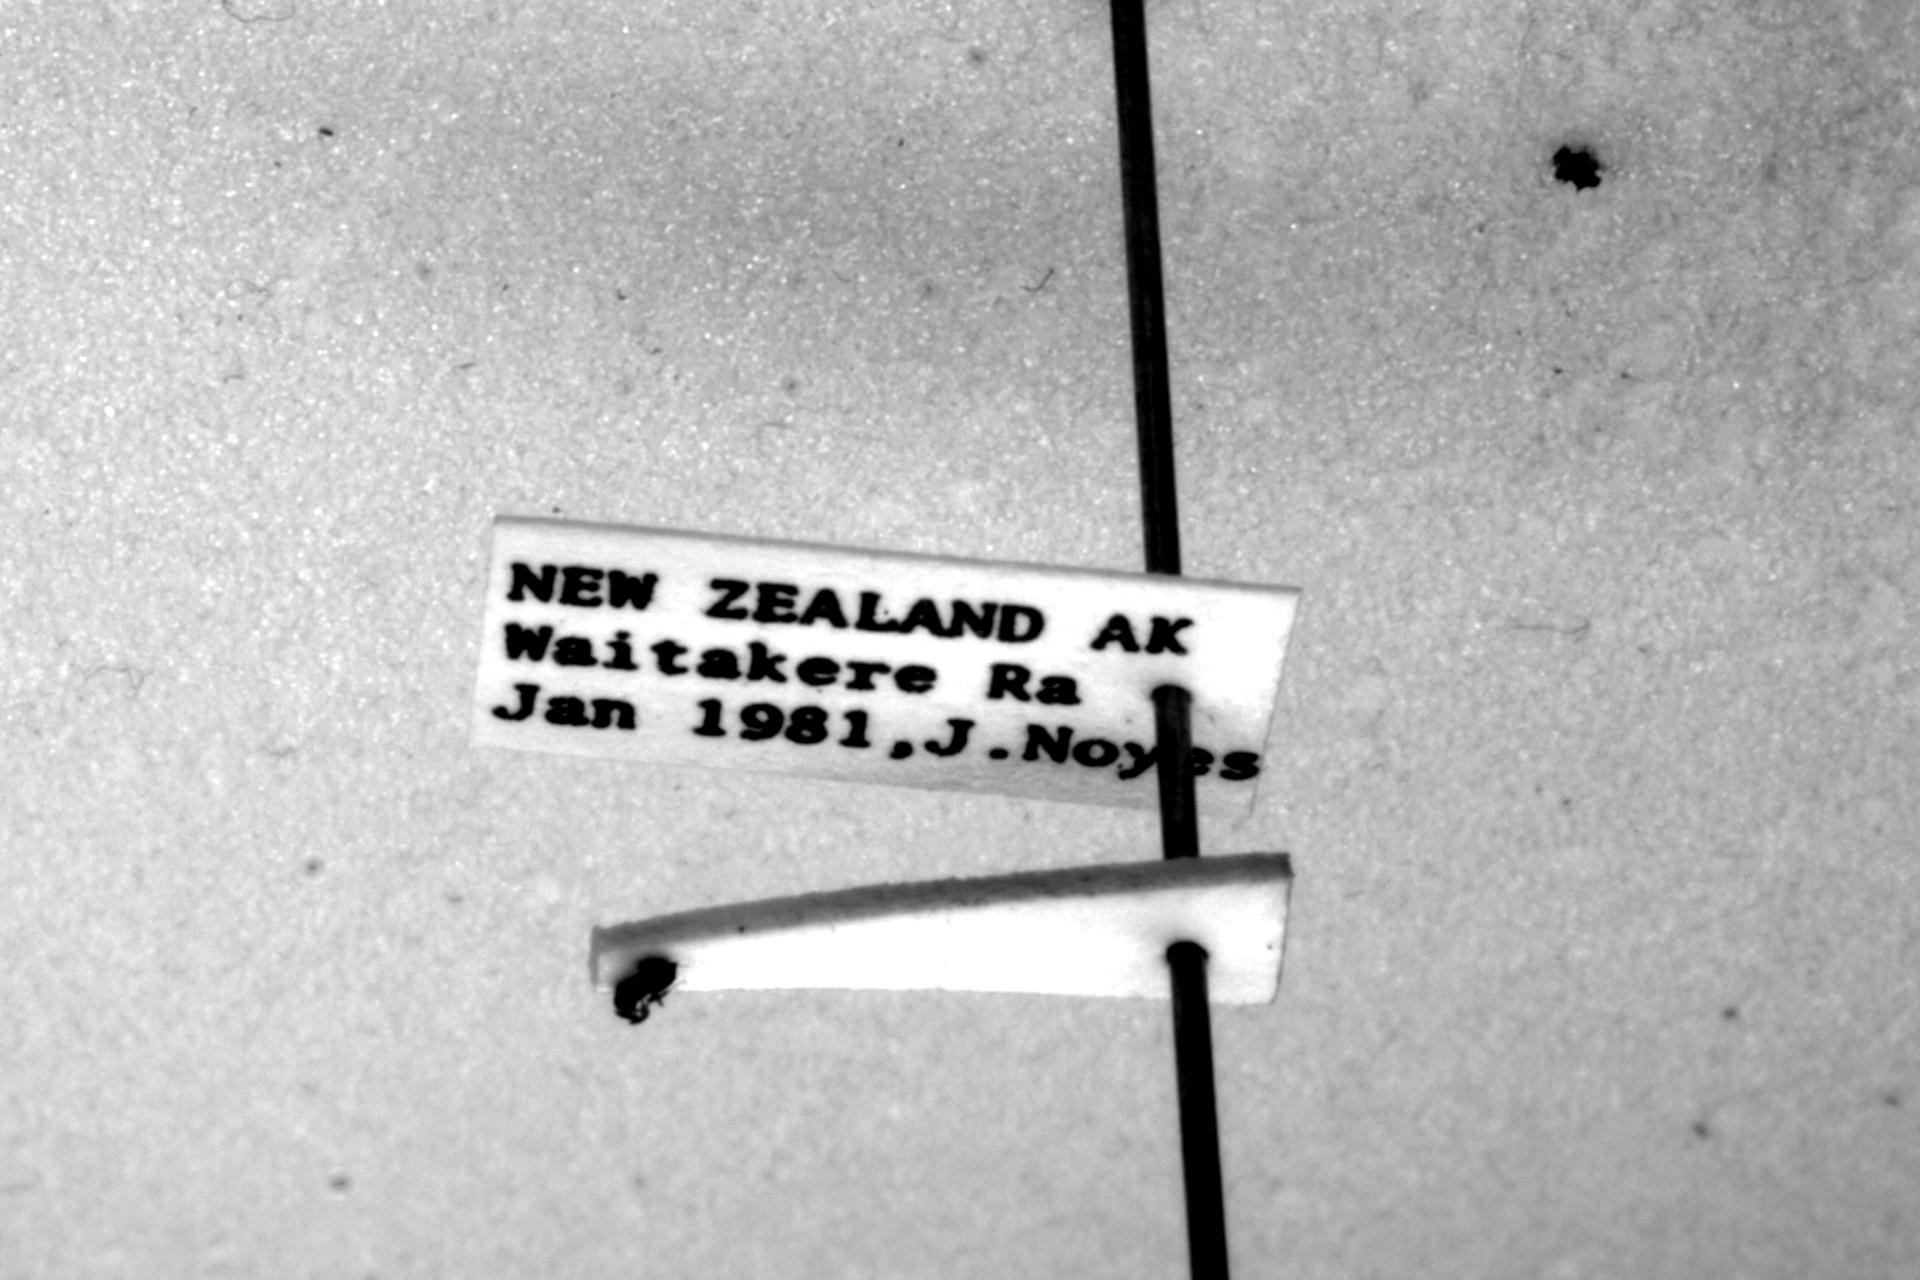typed_label: (472, 518, 1298, 818)
